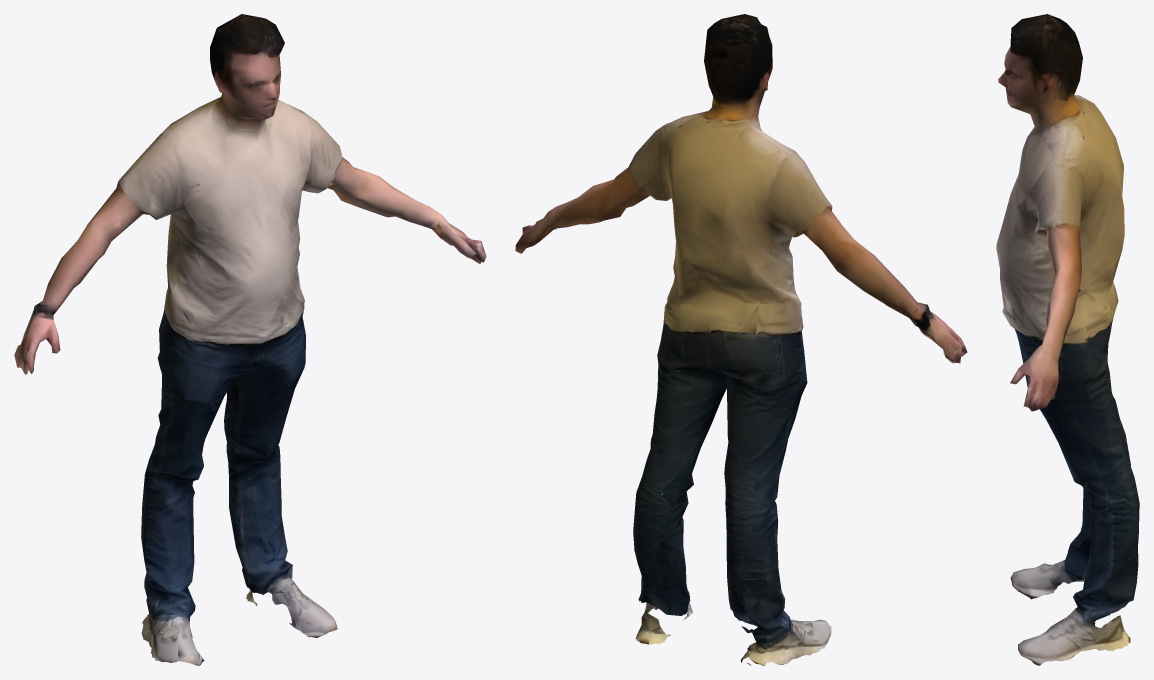
Rendered from jerma.fbx.
3 views of the same model, side by side, from view 1: azimuth 30°, elevation 25°; view 2: azimuth 150°, elevation 25°; view 3: azimuth 270°, elevation 25° (orthographic). The views are drawn at different scales.
Visible parts, largest first — view 1: bake; view 2: bake; view 3: bake.
Part boxes in pixels (x1,y1,x2,y2): bake: (14,14,486,665); bake: (515,14,967,665); bake: (996,14,1139,665).
Bounding box in the file's own units: 240 × 315 × 67.35.
1 material, 1 textured.
